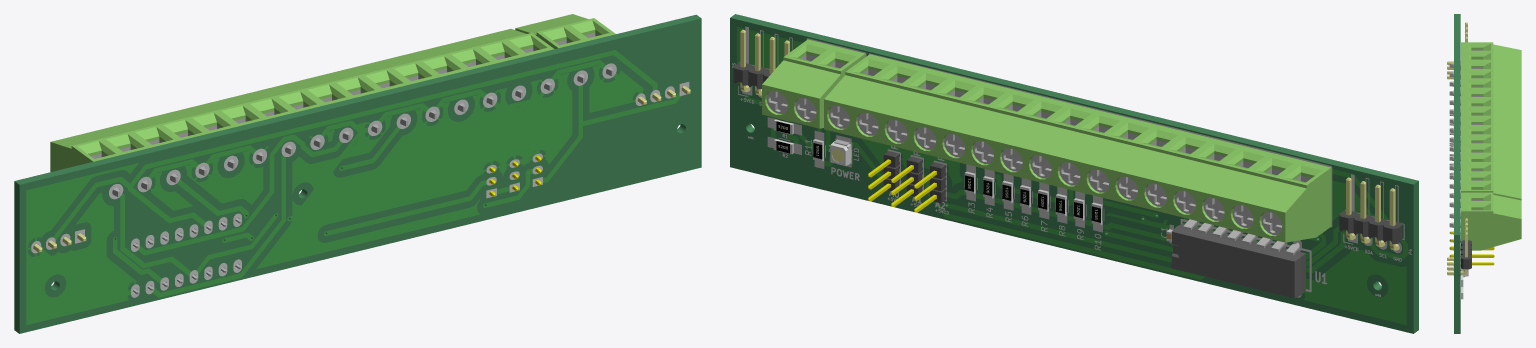
File: I2C_EXPANSOR.dae
3 views of the same model, side by side, from view 1: azimuth 30°, elevation 25°; view 2: azimuth 150°, elevation 25°; view 3: azimuth 270°, elevation 25° (orthographic). The views are drawn at different scales.
Parts seen in each view (by area): view 1: Shape_IndexedFaceSet_164, Shape_IndexedFaceSet_167, Shape_IndexedFaceSet_168, Shape_IndexedFaceSet_119, Shape_IndexedFaceSet_153, Shape_IndexedFaceSet_133, Shape_IndexedFaceSet_141, Shape_IndexedFaceSet_135, Shape_IndexedFaceSet_137, Shape_IndexedFaceSet_145, Shape_IndexedFaceSet_139, Shape_IndexedFaceSet_143 (+9 smaller); view 2: Shape_IndexedFaceSet_164, Shape_IndexedFaceSet_165, Shape_IndexedFaceSet_016, Shape_IndexedFaceSet_119, Shape_IndexedFaceSet_170, Shape_IndexedFaceSet_153, Shape_IndexedFaceSet_166, Shape_IndexedFaceSet_129, Shape_IndexedFaceSet_147, Shape_IndexedFaceSet_131, Shape_IndexedFaceSet_141, Shape_IndexedFaceSet_121 (+11 smaller); view 3: Shape_IndexedFaceSet_155, Shape_IndexedFaceSet_164, Shape_IndexedFaceSet_133, Shape_IndexedFaceSet_135, Shape_IndexedFaceSet_125, Shape_IndexedFaceSet_137, Shape_IndexedFaceSet_141, Shape_IndexedFaceSet_143, Shape_IndexedFaceSet_121, Shape_IndexedFaceSet_145, Shape_IndexedFaceSet_147, Shape_IndexedFaceSet_119 (+12 smaller).
Part boxes in pixels (left/top/right/bottom): Shape_IndexedFaceSet_164: left=14, top=14, right=701, bottom=333; Shape_IndexedFaceSet_167: left=26, top=50, right=681, bottom=325; Shape_IndexedFaceSet_168: left=31, top=63, right=689, bottom=297; Shape_IndexedFaceSet_119: left=50, top=135, right=121, bottom=171; Shape_IndexedFaceSet_153: left=515, top=21, right=586, bottom=48; Shape_IndexedFaceSet_133: left=482, top=29, right=554, bottom=55; Shape_IndexedFaceSet_141: left=367, top=57, right=438, bottom=84; Shape_IndexedFaceSet_135: left=454, top=36, right=525, bottom=63; Shape_IndexedFaceSet_137: left=425, top=43, right=496, bottom=70; Shape_IndexedFaceSet_145: left=310, top=71, right=381, bottom=98; Shape_IndexedFaceSet_139: left=396, top=50, right=467, bottom=77; Shape_IndexedFaceSet_143: left=338, top=64, right=409, bottom=91; Shape_IndexedFaceSet_164: left=730, top=14, right=1418, bottom=333; Shape_IndexedFaceSet_165: left=737, top=26, right=1407, bottom=324; Shape_IndexedFaceSet_016: left=1171, top=223, right=1305, bottom=298; Shape_IndexedFaceSet_119: left=1256, top=160, right=1331, bottom=242; Shape_IndexedFaceSet_170: left=732, top=26, right=1411, bottom=296; Shape_IndexedFaceSet_153: left=791, top=46, right=865, bottom=128; Shape_IndexedFaceSet_166: left=742, top=85, right=1401, bottom=297; Shape_IndexedFaceSet_129: left=1112, top=125, right=1186, bottom=206; Shape_IndexedFaceSet_147: left=1054, top=111, right=1128, bottom=192; Shape_IndexedFaceSet_131: left=1083, top=118, right=1157, bottom=199; Shape_IndexedFaceSet_141: left=939, top=82, right=1013, bottom=164; Shape_IndexedFaceSet_121: left=1227, top=153, right=1301, bottom=235; Shape_IndexedFaceSet_155: left=1461, top=202, right=1521, bottom=250; Shape_IndexedFaceSet_164: left=1454, top=14, right=1460, bottom=333; Shape_IndexedFaceSet_133: left=1460, top=181, right=1521, bottom=205; Shape_IndexedFaceSet_135: left=1460, top=172, right=1521, bottom=195; Shape_IndexedFaceSet_125: left=1460, top=70, right=1521, bottom=95; Shape_IndexedFaceSet_137: left=1460, top=163, right=1521, bottom=186; Shape_IndexedFaceSet_141: left=1460, top=144, right=1521, bottom=167; Shape_IndexedFaceSet_143: left=1460, top=135, right=1521, bottom=157; Shape_IndexedFaceSet_121: left=1460, top=51, right=1521, bottom=77; Shape_IndexedFaceSet_145: left=1461, top=126, right=1521, bottom=142; Shape_IndexedFaceSet_147: left=1461, top=107, right=1521, bottom=124; Shape_IndexedFaceSet_119: left=1460, top=42, right=1521, bottom=67.
Size of the model in its own units: 119 by 16.86 by 24.75.
